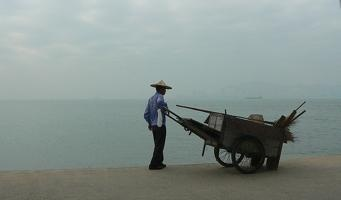helmet: (149, 78, 173, 91)
person with partial safety: (141, 79, 172, 171)
